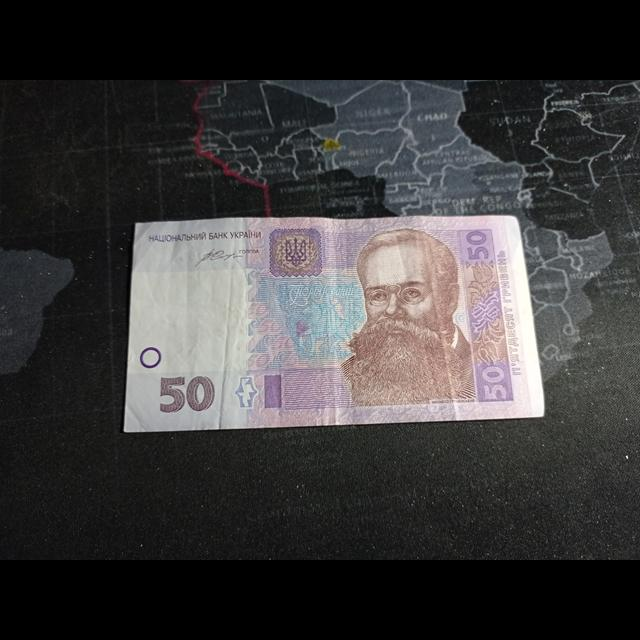50uah: (131, 220, 544, 422)
